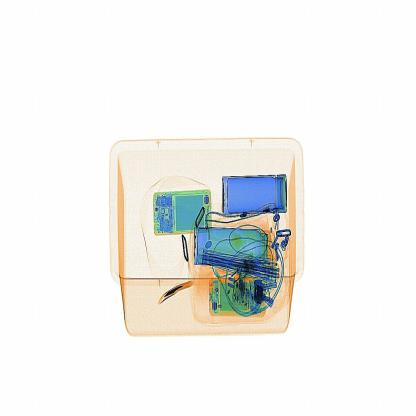wrench: (152, 278, 198, 300)
